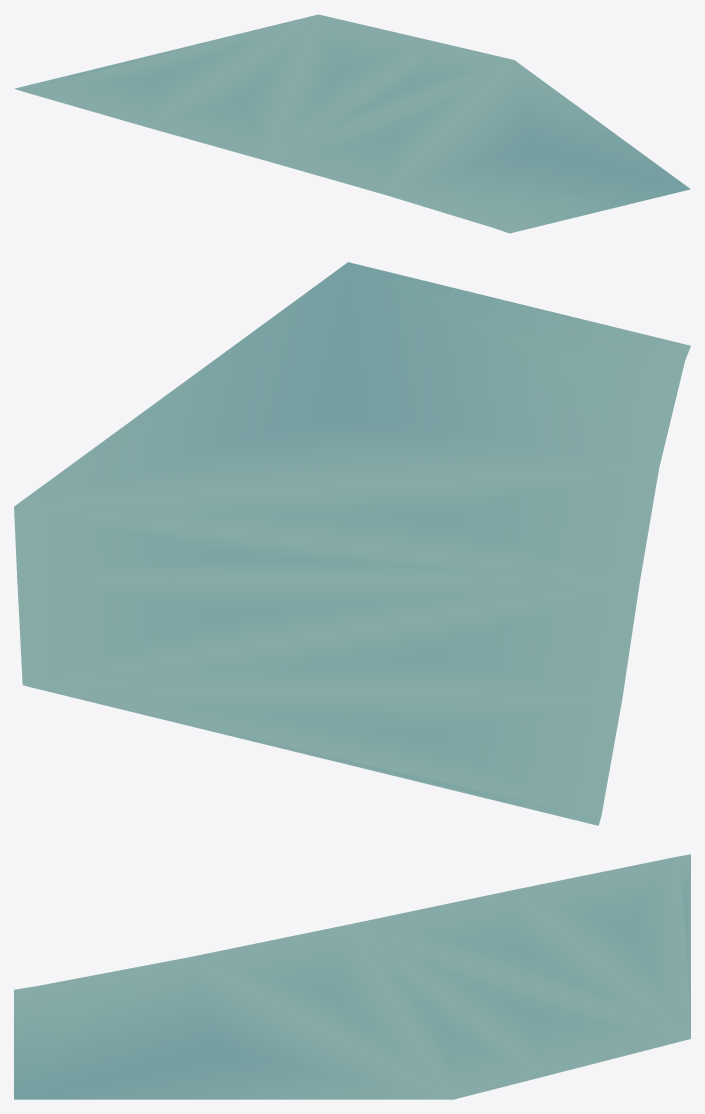
The model's file is water-15-11.glb.
3 views of the same model, one above another, from view 1: azimuth 30°, elevation 25°; view 2: azimuth 150°, elevation 25°; view 3: azimuth 270°, elevation 25° (orthographic). The views are drawn at different scales.
Bounding box in the file's own units: 13.73 × 0 × 16.
